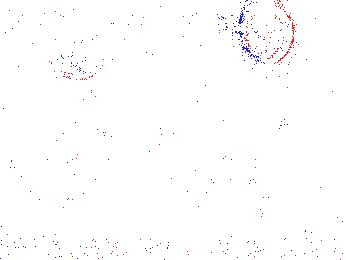moon jellyfish: (256, 53, 325, 135), (1, 1, 76, 74), (46, 17, 108, 80), (113, 8, 174, 67), (134, 2, 221, 43), (239, 3, 295, 66)
